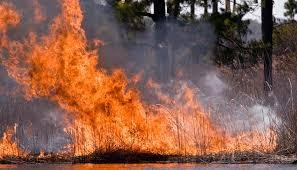fire: (2, 1, 228, 157)
